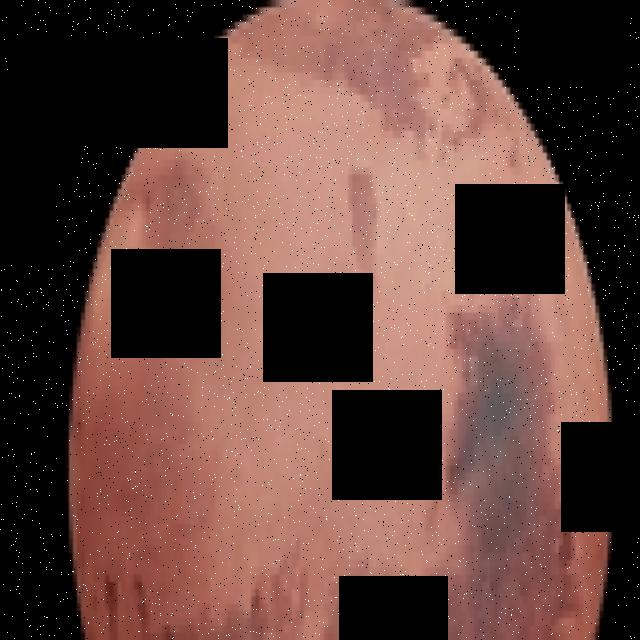Mars: (69, 0, 620, 640)
